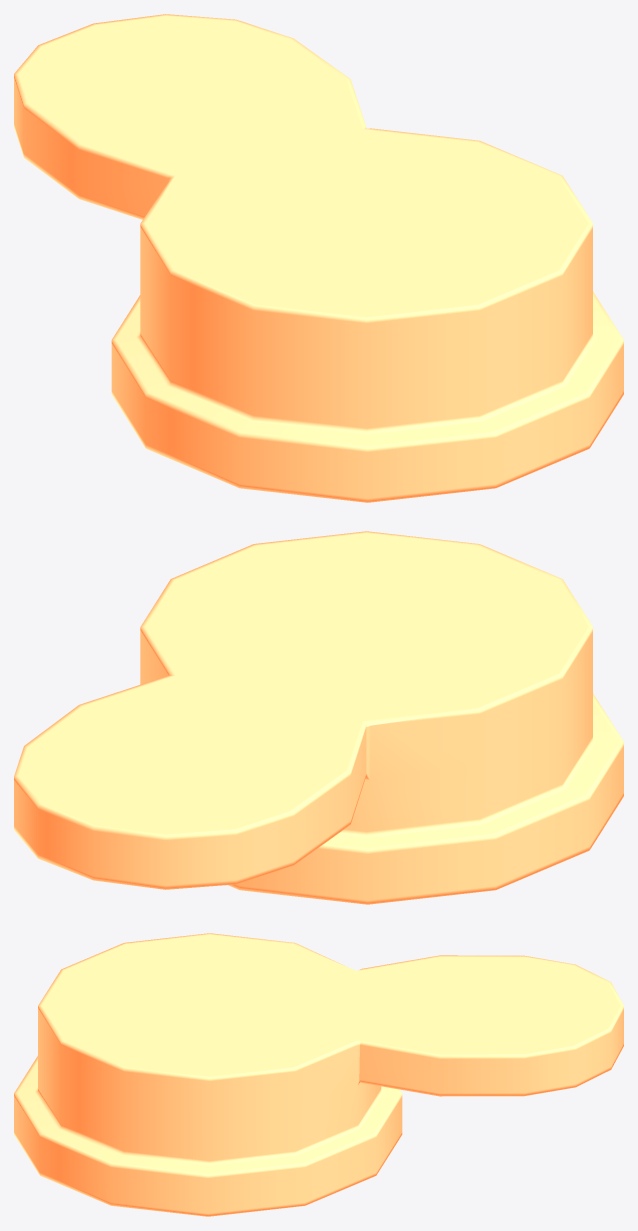
Rendered from SM_MastConnect01_02.fbx.
3 views of the same model, one above another, from view 1: azimuth 30°, elevation 25°; view 2: azimuth 150°, elevation 25°; view 3: azimuth 270°, elevation 25° (orthographic). The views are drawn at different scales.
Parts seen in each view (by area): view 1: SM_MastConnect01_02; view 2: SM_MastConnect01_02; view 3: SM_MastConnect01_02.
Boxes of the visible parts, box(x1,y1,x2,y2) form: SM_MastConnect01_02: box(14, 14, 623, 502); SM_MastConnect01_02: box(14, 531, 623, 904); SM_MastConnect01_02: box(14, 933, 623, 1216).
Size of the model in its own units: 69.89 by 110 by 26.01.
